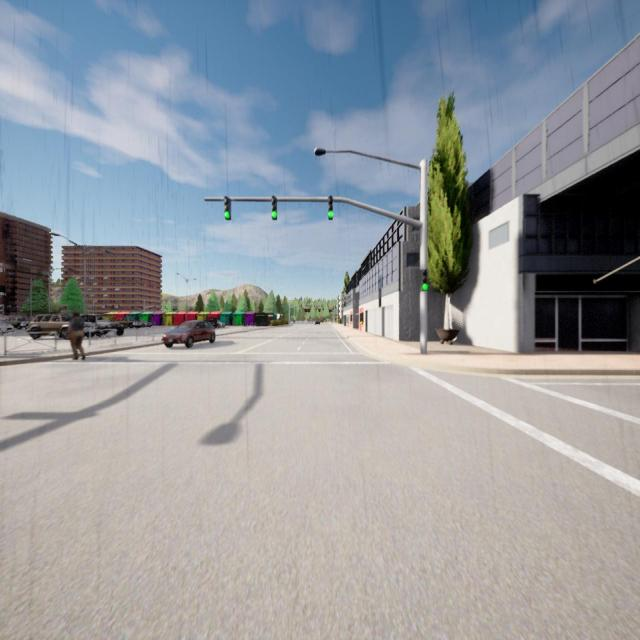Pedestrian: (68, 312, 85, 360)
Vehicle: (162, 320, 215, 348), (26, 313, 68, 340), (81, 314, 112, 337), (7, 315, 26, 330), (0, 320, 15, 336), (116, 318, 132, 329), (132, 320, 152, 328), (216, 319, 225, 329), (314, 320, 320, 326)
traffic_light: (419, 268, 428, 292), (224, 196, 231, 220), (272, 196, 277, 220), (328, 196, 333, 219)
